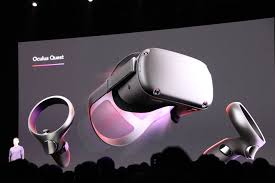oculus: (107, 47, 216, 124)
